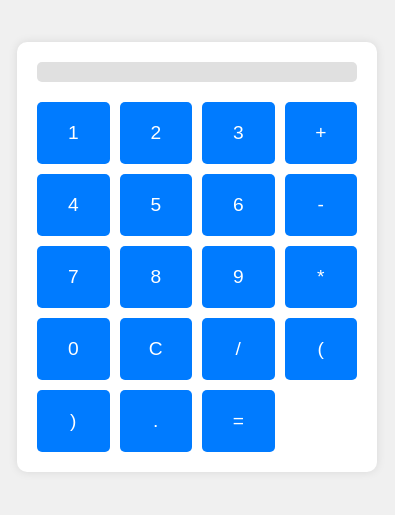
Test: handles button clicks
This screenshot has width=395, height=515.
Click the button "1": (73, 133) x1=37 y1=102 x2=110 y2=164
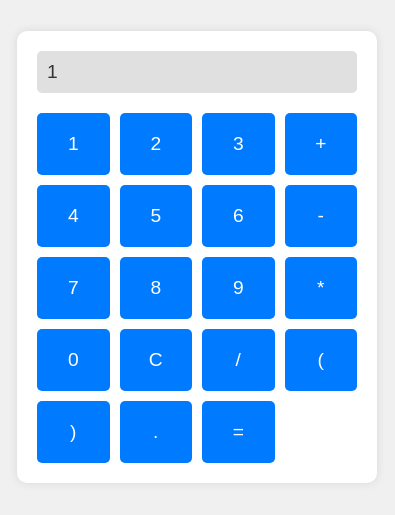
Click the button "2": (156, 144) x1=120 y1=113 x2=192 y2=175
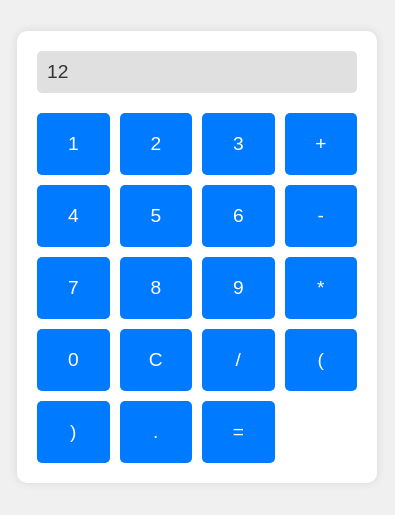
Click the button "+": (321, 144) x1=284 y1=113 x2=357 y2=175
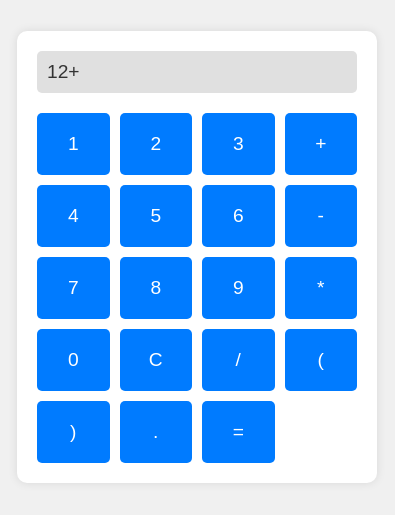
Click the button "3": (238, 144) x1=202 y1=113 x2=274 y2=175
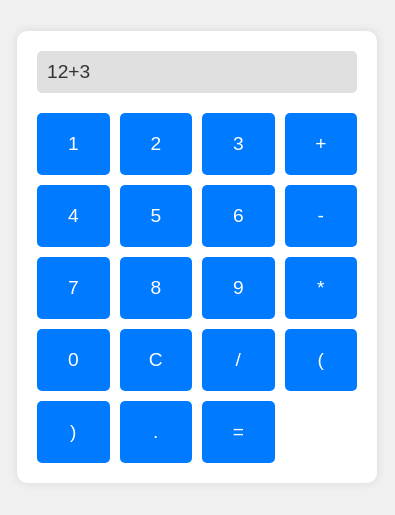
Click the button "=": (238, 432) x1=202 y1=401 x2=274 y2=463
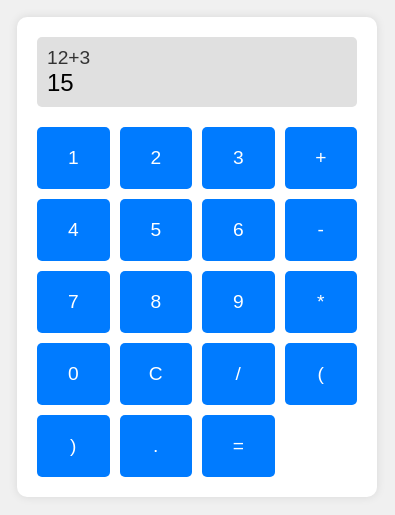
Check: the text "15" is shown, box x1=47 y1=69 x2=74 y2=96
